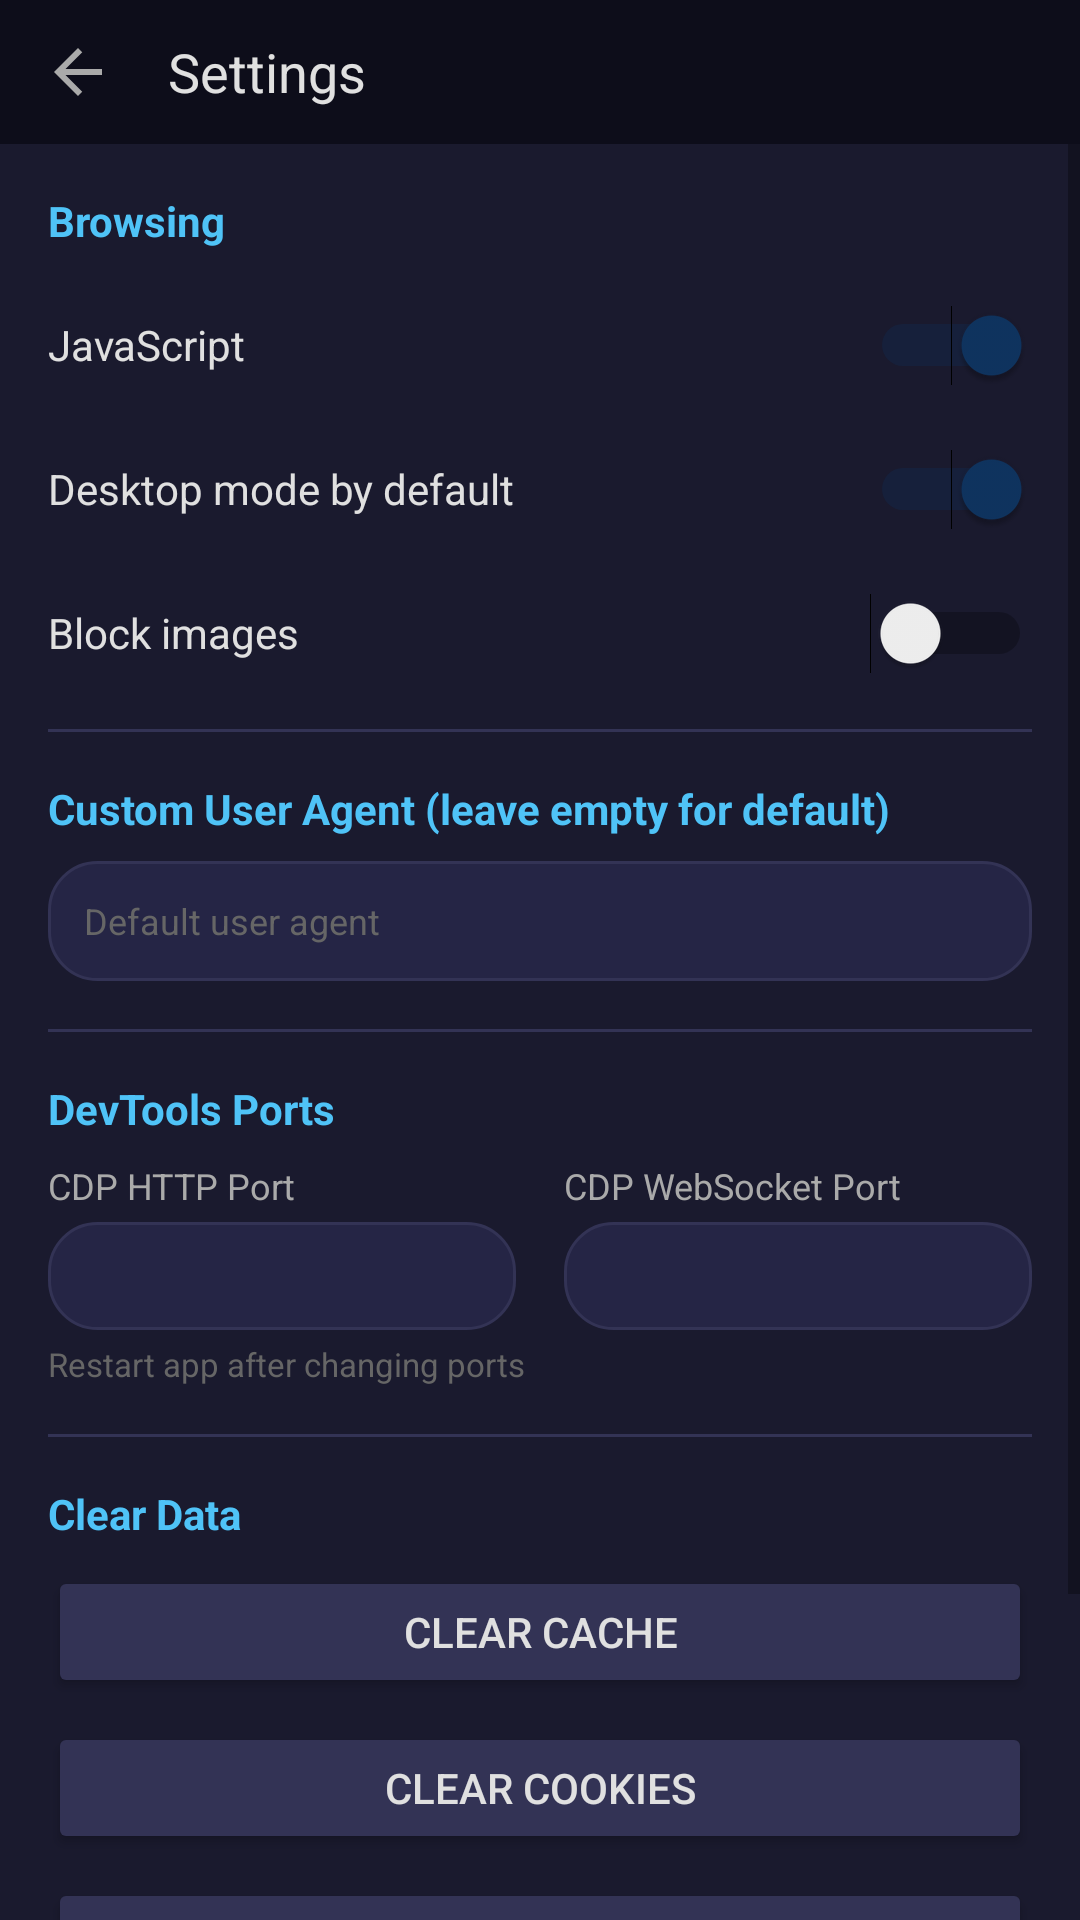

Screen size 1080x1920. Icon name, then its center in pixels as point (x, y):
Back: point (78, 72)
